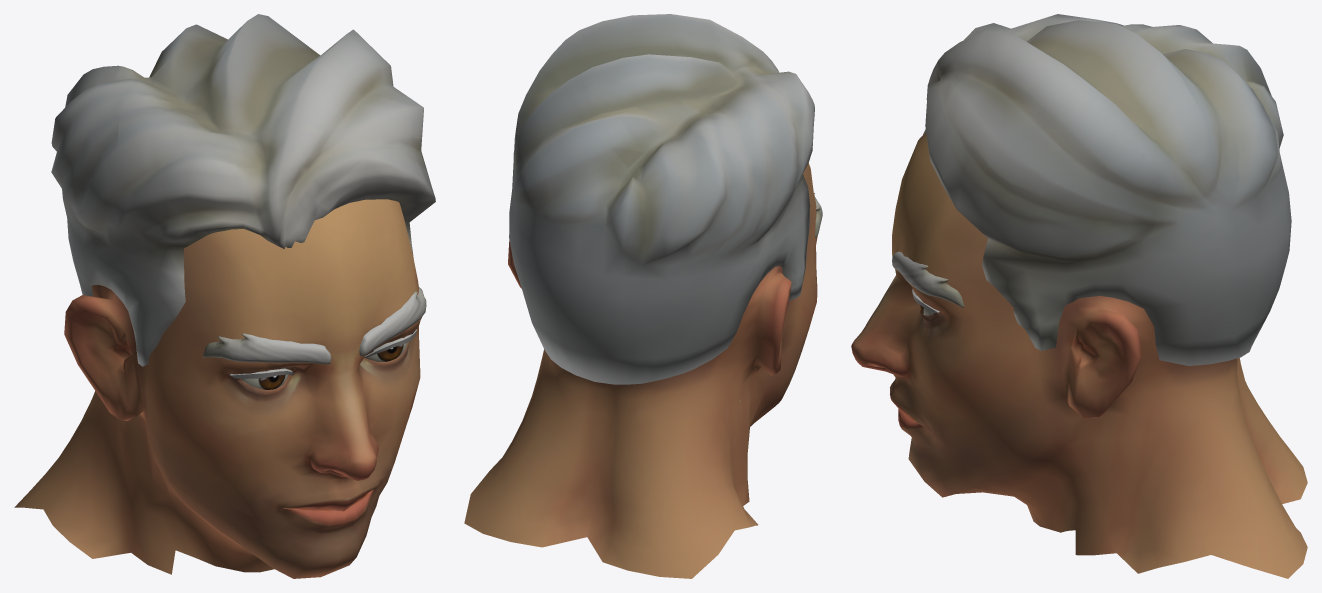
Rendered from hyunsu-head.glb.
3 renders of one model, left to right at view 1: azimuth 30°, elevation 25°; view 2: azimuth 150°, elevation 25°; view 3: azimuth 270°, elevation 25°, orthographic. The views are drawn at different scales.
Parts seen in each view (by area): view 1: SuperHero_Male, Hair_SimpleParted, Eyebrows, Eyes; view 2: Hair_SimpleParted, SuperHero_Male; view 3: Hair_SimpleParted, SuperHero_Male, Eyebrows.
Boxes of the visible parts, x1=… form: SuperHero_Male: x1=14, y1=199, x2=421, y2=578; Hair_SimpleParted: x1=51, y1=14, x2=435, y2=366; Eyebrows: x1=202, y1=287, x2=426, y2=378; Eyes: x1=241, y1=343, x2=406, y2=389; Hair_SimpleParted: x1=509, y1=14, x2=814, y2=384; SuperHero_Male: x1=464, y1=163, x2=817, y2=578; Hair_SimpleParted: x1=923, y1=14, x2=1291, y2=365; SuperHero_Male: x1=851, y1=132, x2=1307, y2=578; Eyebrows: x1=892, y1=251, x2=964, y2=313.
Size of the model in its own units: 0.2538 by 0.3894 by 0.3241.
Materials: 4 (4 with a texture image).
